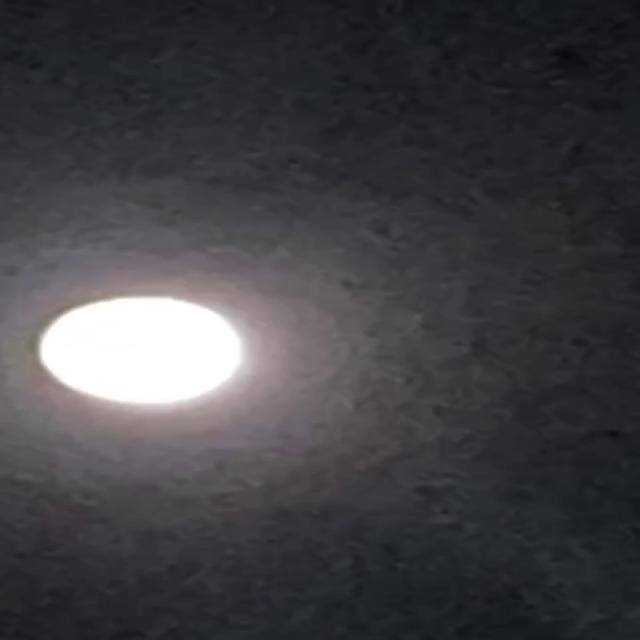moon: (29, 285, 246, 426)
